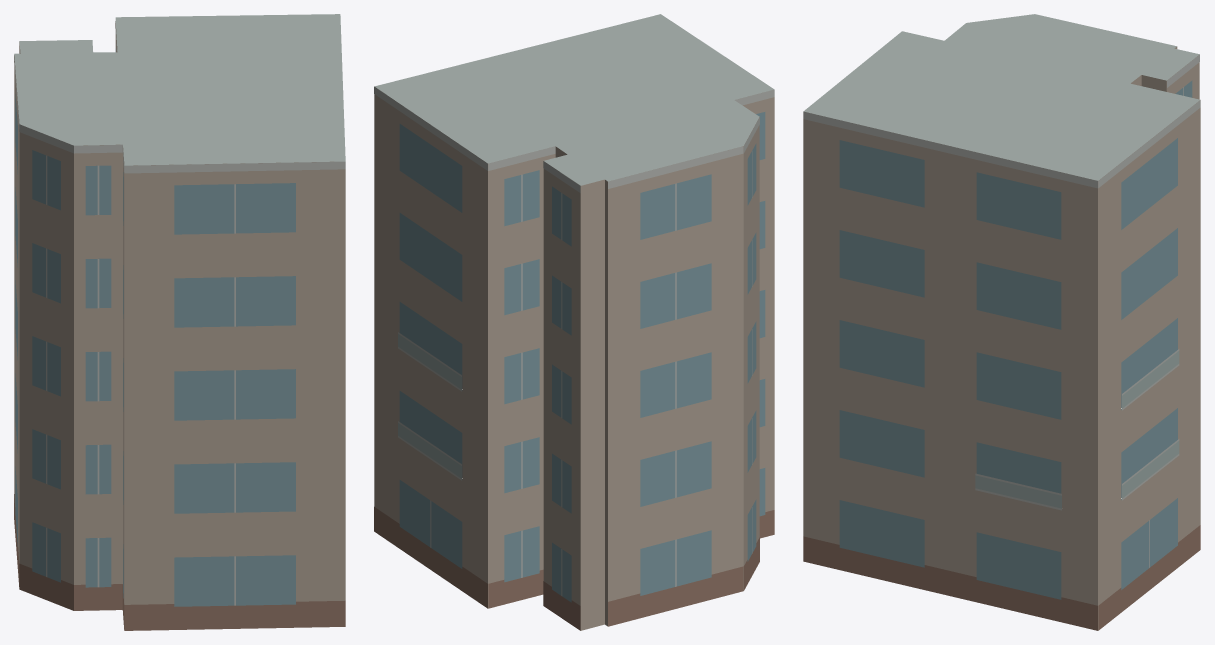
Rendered from survey-upis-32669256.glb.
3 renders of one model, left to right at view 1: azimuth 30°, elevation 25°; view 2: azimuth 150°, elevation 25°; view 3: azimuth 270°, elevation 25°, orthographic. The views are drawn at different scales.
Parts seen in each view (by area): view 1: survey-upis-32669256.tmp; view 2: survey-upis-32669256.tmp; view 3: survey-upis-32669256.tmp.
Part boxes in pixels (left/top/right/bottom): survey-upis-32669256.tmp: left=14, top=14, right=345, bottom=630; survey-upis-32669256.tmp: left=374, top=14, right=774, bottom=630; survey-upis-32669256.tmp: left=803, top=14, right=1200, bottom=630.
Bounding box in the file's own units: 11.5 × 14.45 × 11.57.
